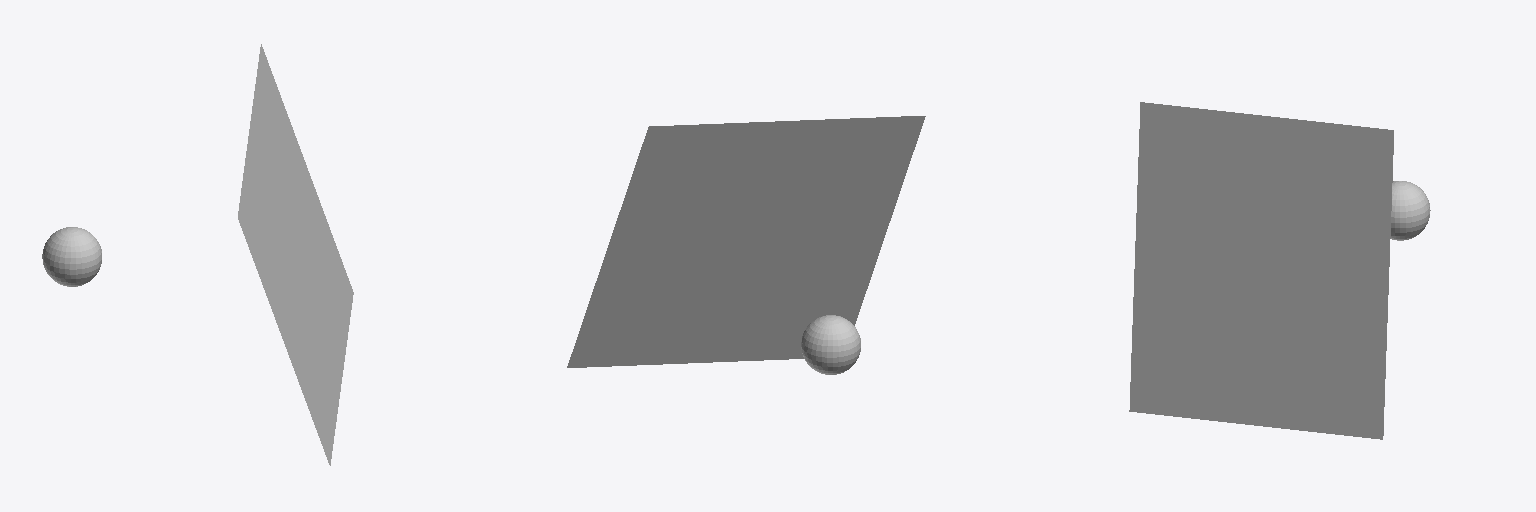
File: geometries.obj
3 views of the same model, side by side, from view 1: azimuth 30°, elevation 25°; view 2: azimuth 150°, elevation 25°; view 3: azimuth 270°, elevation 25° (orthographic).
Parts seen in each view (by area): view 1: Plane.001, Sphere; view 2: Plane.001, Sphere; view 3: Plane.001, Sphere.
Part boxes in pixels (left/top/right/bottom): Plane.001: left=238, top=44, right=353, bottom=465; Sphere: left=42, top=227, right=101, bottom=286; Plane.001: left=567, top=116, right=925, bottom=367; Sphere: left=801, top=315, right=860, bottom=374; Plane.001: left=1129, top=102, right=1393, bottom=439; Sphere: left=1391, top=181, right=1430, bottom=240.
Size of the model in its own units: 11.45 by 11.43 by 9.99.